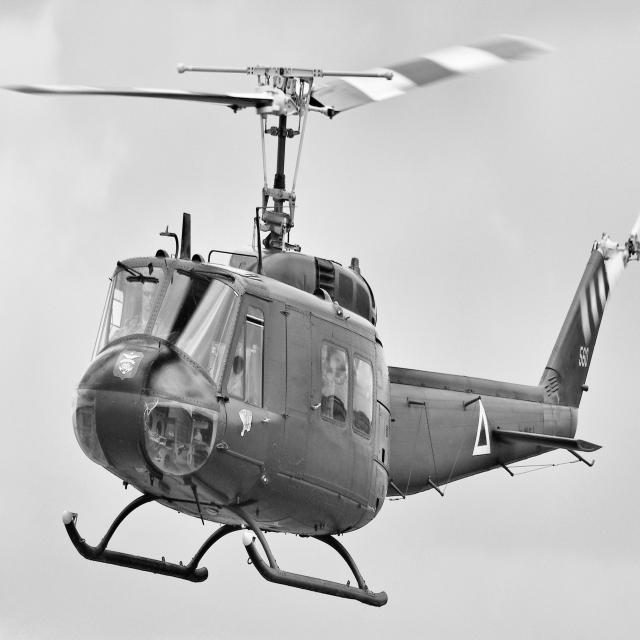helicopter: (1, 39, 640, 603)
